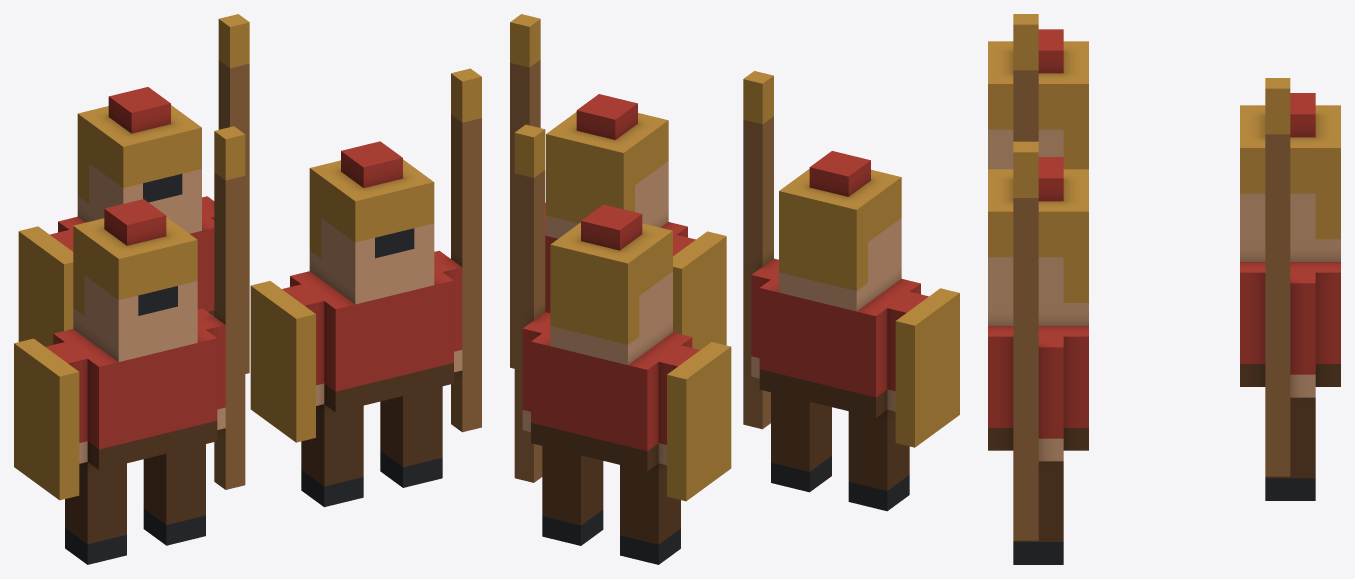
Rendered from u_spear.glb.
The picture shows the model from 3 angles, left to right: view 1: azimuth 30°, elevation 25°; view 2: azimuth 150°, elevation 25°; view 3: azimuth 270°, elevation 25°; orthographic projection. The views are drawn at different scales.
Parts seen in each view (by area): view 1: u_spear_body; view 2: u_spear_body; view 3: u_spear_body.
Part boxes in pixels (left/top/right/bottom): u_spear_body: left=14, top=14, right=481, bottom=564; u_spear_body: left=510, top=14, right=959, bottom=564; u_spear_body: left=988, top=14, right=1340, bottom=564.
Bounding box in the file's own units: 1.38 × 1.19 × 0.875.
1 material, 1 textured.
